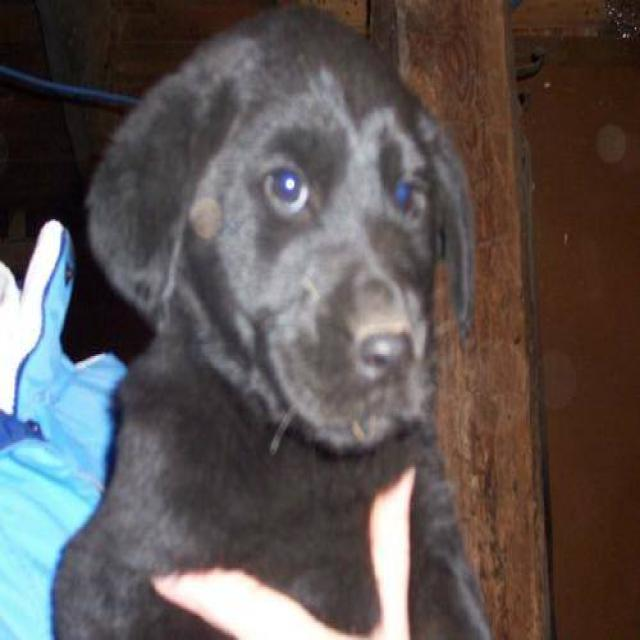Dog: (87, 14, 479, 454)
